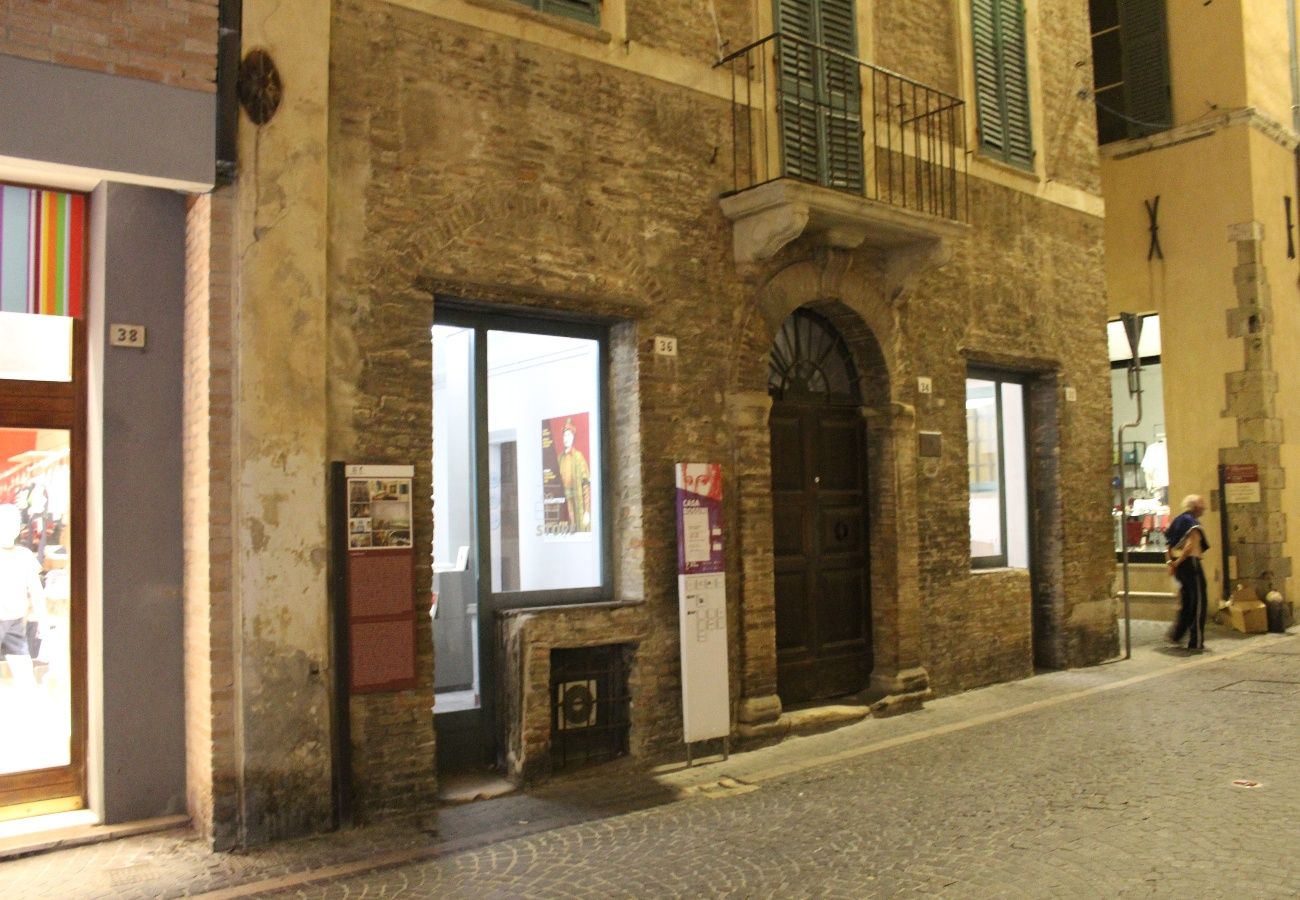Casa Rossini: (331, 4, 1121, 771)
